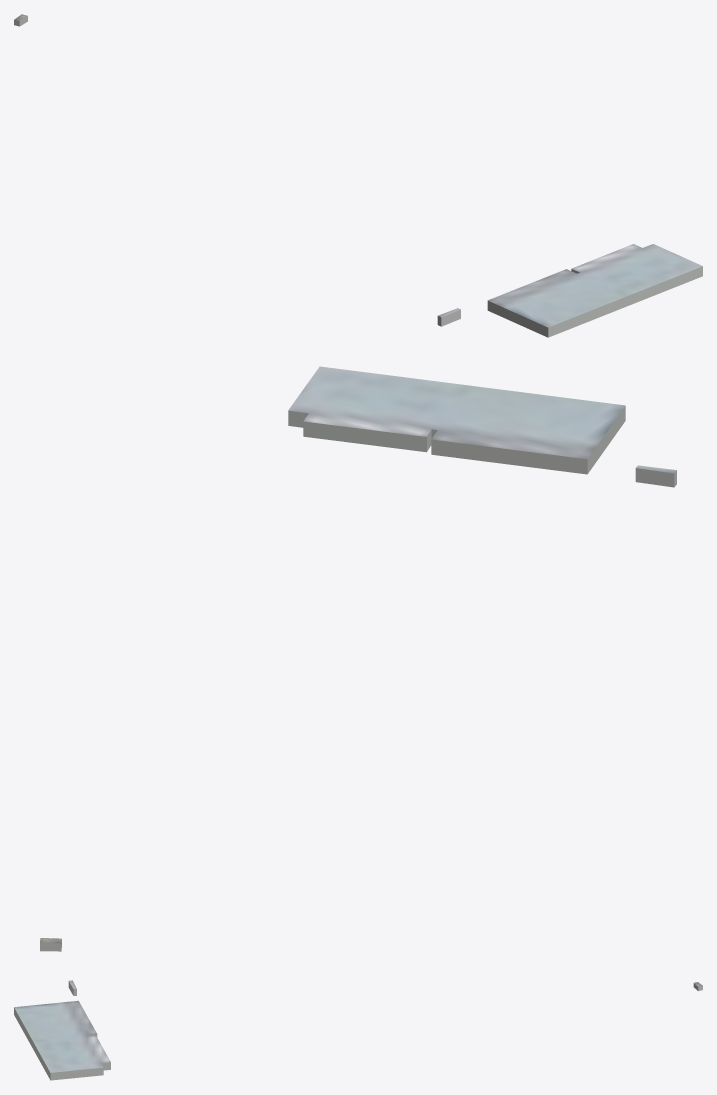
Rendered from LFSB_0_-3.glb.
The picture shows the model from 3 angles, top to bottom: view 1: azimuth 30°, elevation 25°; view 2: azimuth 150°, elevation 25°; view 3: azimuth 270°, elevation 25°; orthographic projection. The views are drawn at different scales.
Visible parts, largest first — view 1: building_BATIMENT0000002323529150; view 2: building_BATIMENT0000002323529150; view 3: building_BATIMENT0000002323529150.
Part boxes in pixels (x1,y1,x2,y2): building_BATIMENT0000002323529150: (487,244,702,337); building_BATIMENT0000002323529150: (288,366,625,474); building_BATIMENT0000002323529150: (14,1000,110,1080).
Size of the model in its own units: 174 by 7.4 by 532.
Materials: 2 (1 with a texture image).
